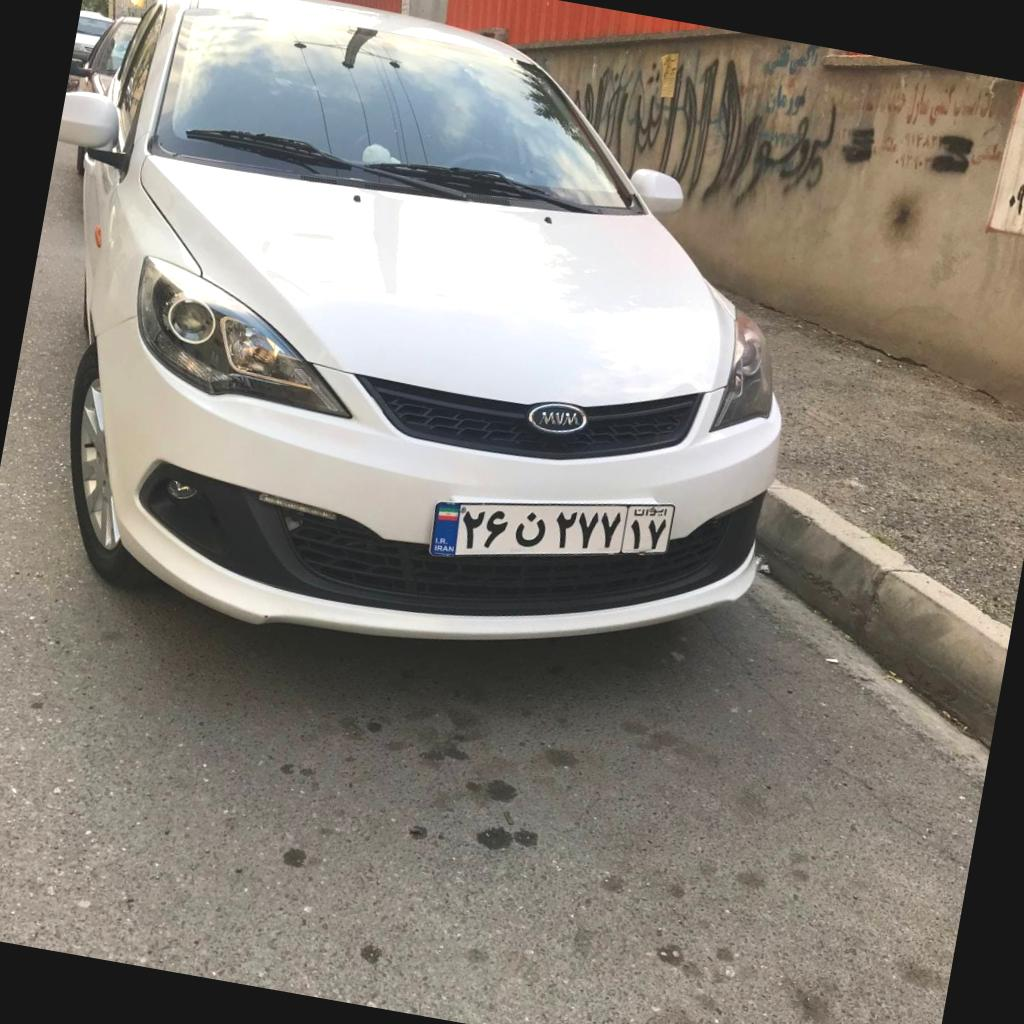Plates: (430, 501, 675, 555)
